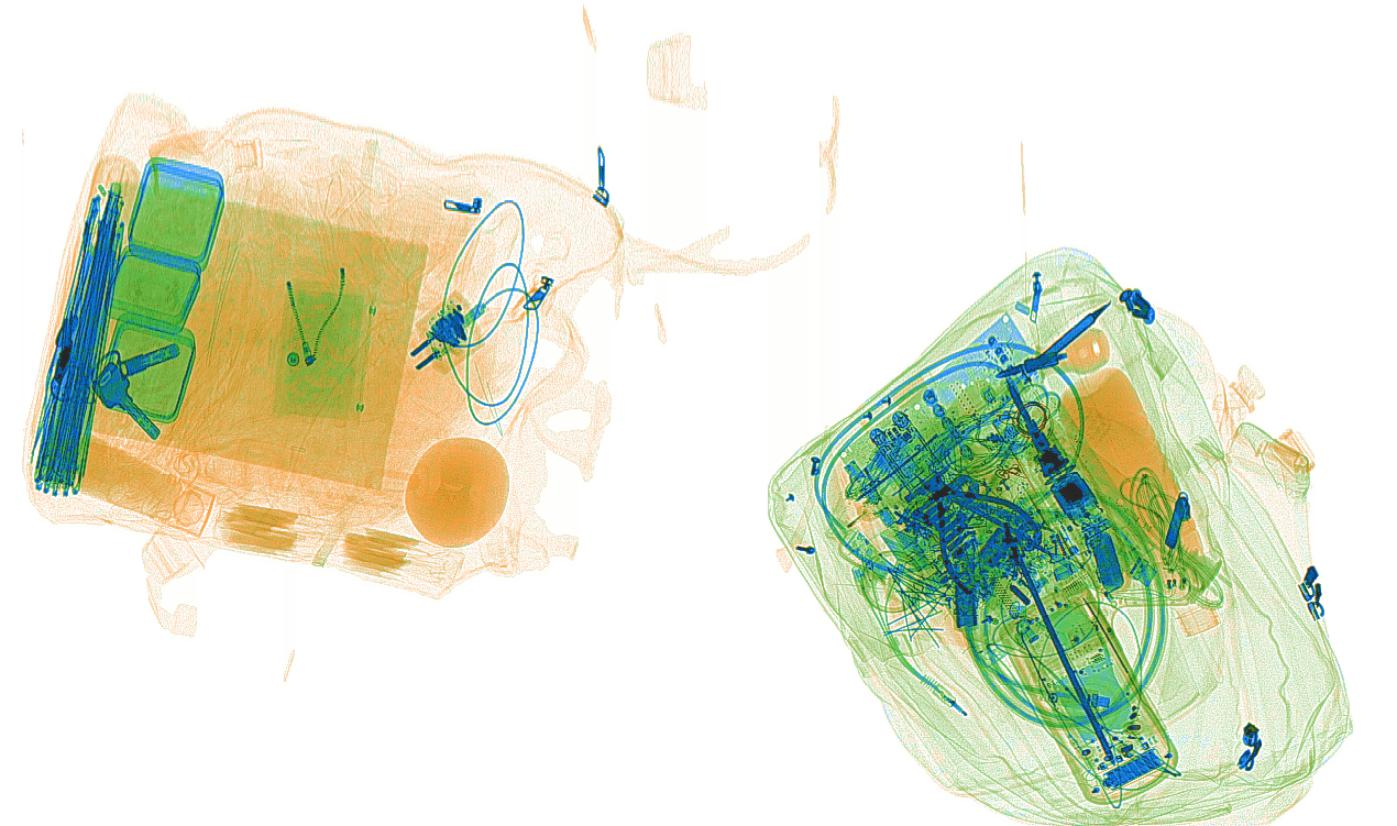battery: (1087, 530, 1124, 595)
